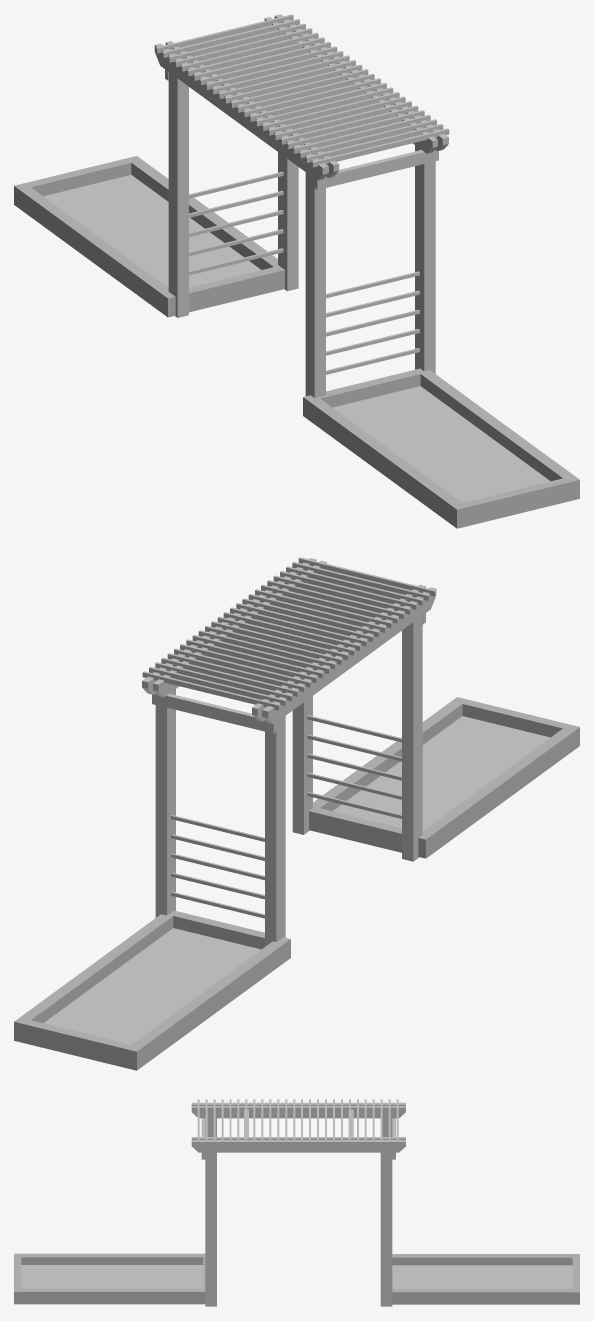
Rendered from Door.gltf.
3 renders of one model, top to bottom at view 1: azimuth 30°, elevation 25°; view 2: azimuth 150°, elevation 25°; view 3: azimuth 270°, elevation 25°, orthographic. The views are drawn at different scales.
Visible parts, largest first — view 1: Door; view 2: Door; view 3: Door.
Boxes of the visible parts, x1,y1,x2,y2 form: Door: (14, 14, 579, 528); Door: (14, 557, 579, 1070); Door: (14, 1099, 579, 1306).
Bounding box in the file's own units: 3.72 × 6.83 × 20.96.
